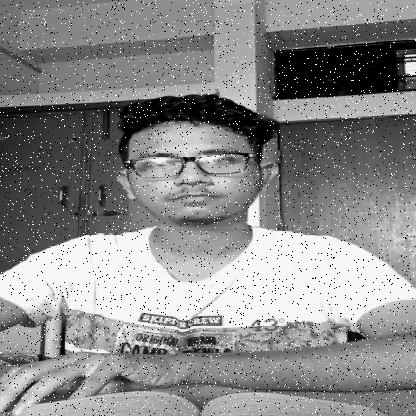Normal: (129, 121, 266, 229)
